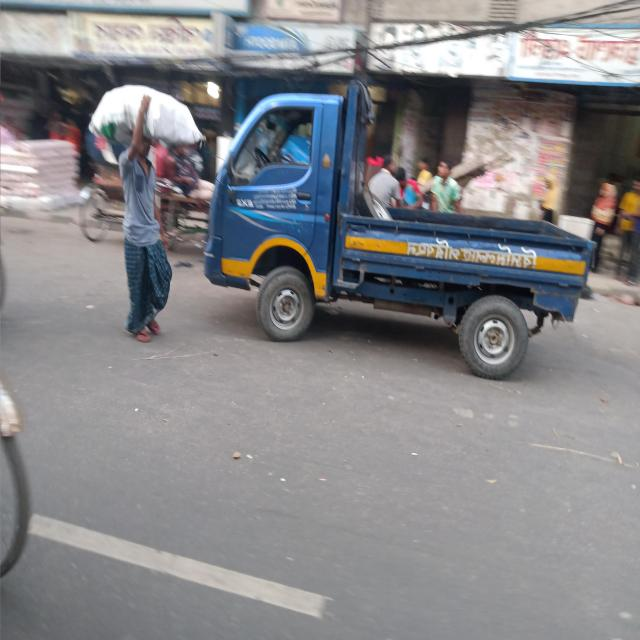truck: (203, 79, 596, 380)
